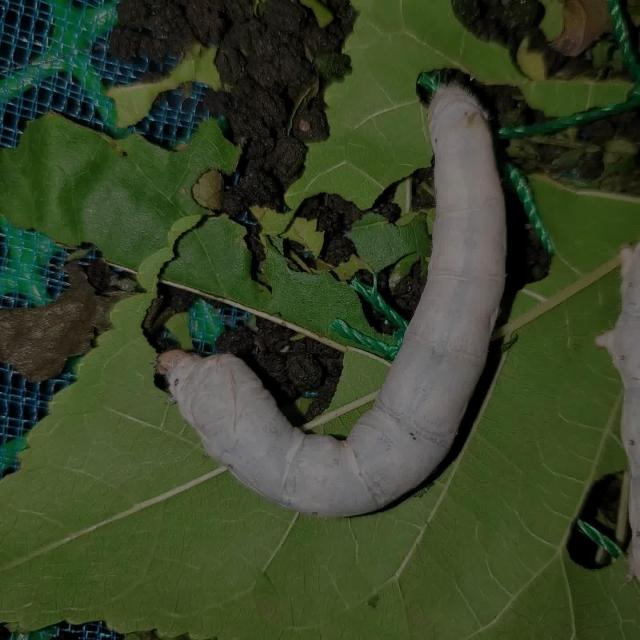Healthy: (129, 34, 531, 558)
